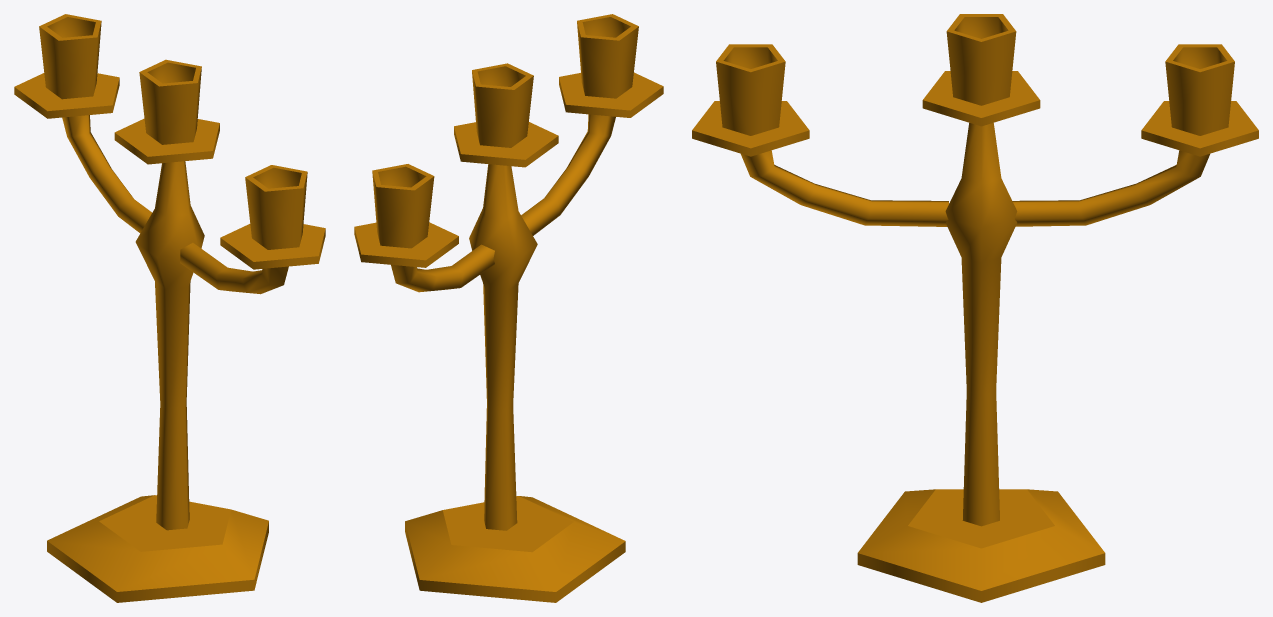
Rendered from candelabra.fbx.
3 views of the same model, side by side, from view 1: azimuth 30°, elevation 25°; view 2: azimuth 150°, elevation 25°; view 3: azimuth 270°, elevation 25° (orthographic). The views are drawn at different scales.
Visible parts, largest first — view 1: candelabra; view 2: candelabra; view 3: candelabra.
Part boxes in pixels (left/top/right/bottom): candelabra: left=14, top=14, right=325, bottom=602; candelabra: left=354, top=14, right=663, bottom=602; candelabra: left=692, top=14, right=1258, bottom=602.
Size of the model in its own units: 7.84 by 19.28 by 18.86.
